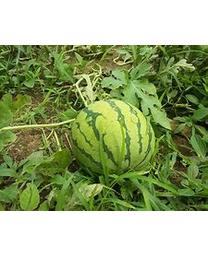watermelon: (68, 98, 157, 181)
